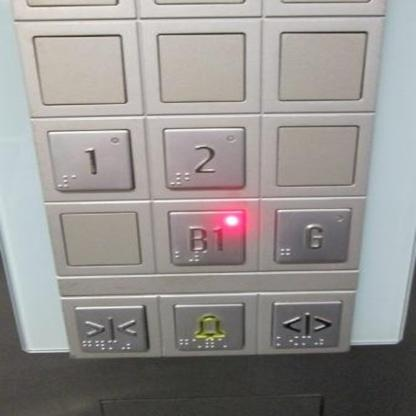1: (44, 127, 136, 192)
2: (160, 126, 249, 191)
B1: (165, 209, 248, 267)
G: (271, 207, 351, 262)
alarm: (168, 302, 247, 352)
close: (72, 304, 151, 356)
empty: (30, 31, 131, 107), (152, 28, 250, 106), (272, 27, 368, 103), (268, 119, 361, 189), (56, 208, 144, 270)
open: (268, 300, 341, 350)
